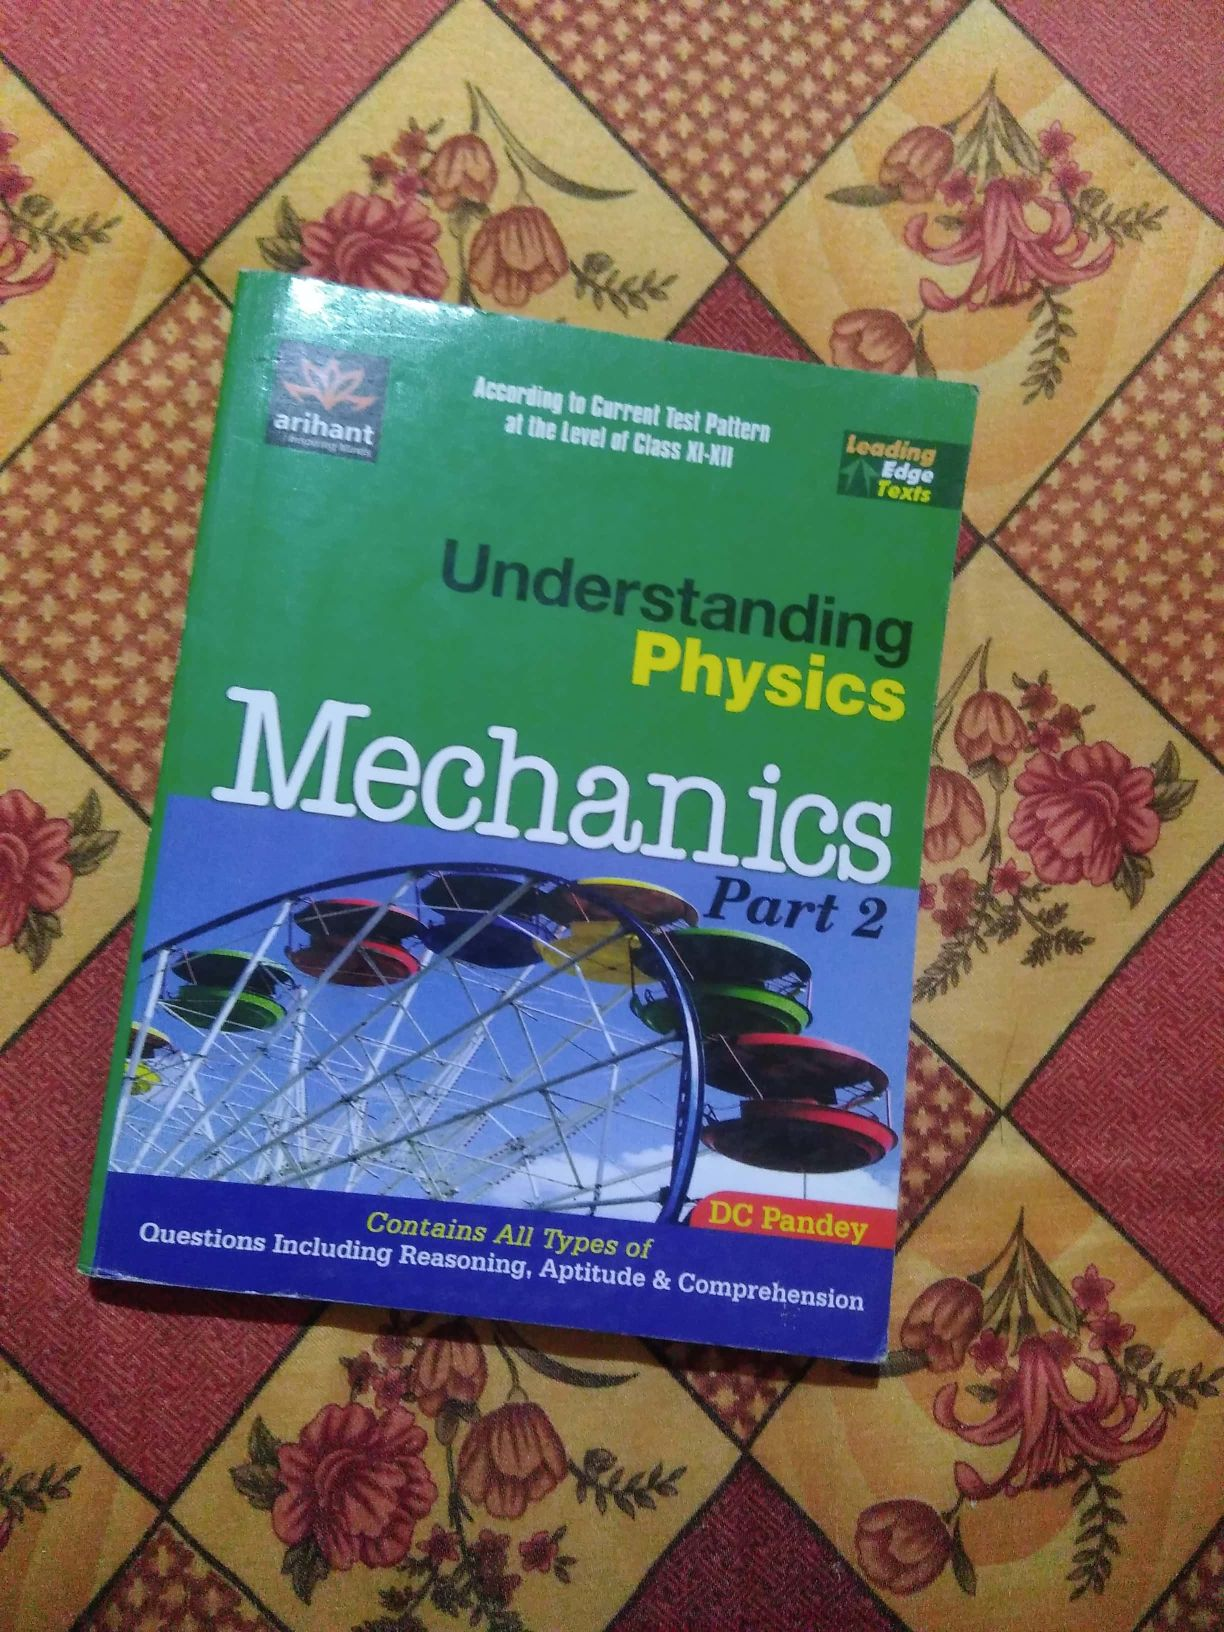mechanics: (114, 260, 1029, 1419)
